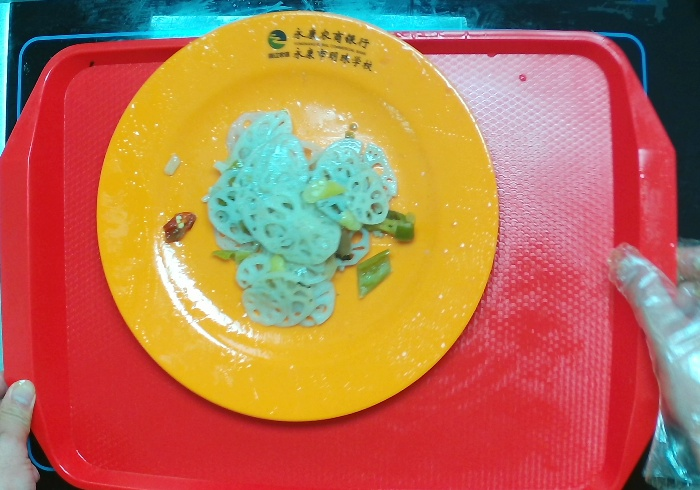YKMZ-Ju_Se_Mian_Pan: (94, 9, 503, 425)
